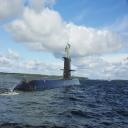submarine: (11, 29, 88, 92)
